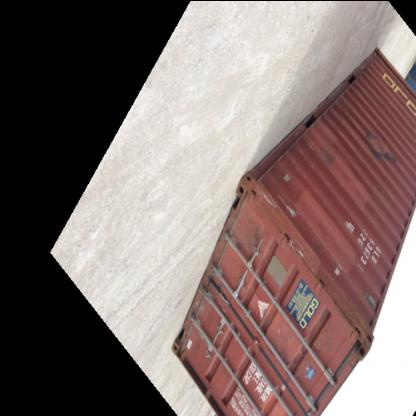Damage: (271, 327, 305, 365), (370, 126, 404, 164), (254, 191, 300, 219), (244, 228, 268, 256), (342, 212, 366, 234), (329, 261, 349, 283), (318, 150, 342, 167), (274, 164, 296, 180)
